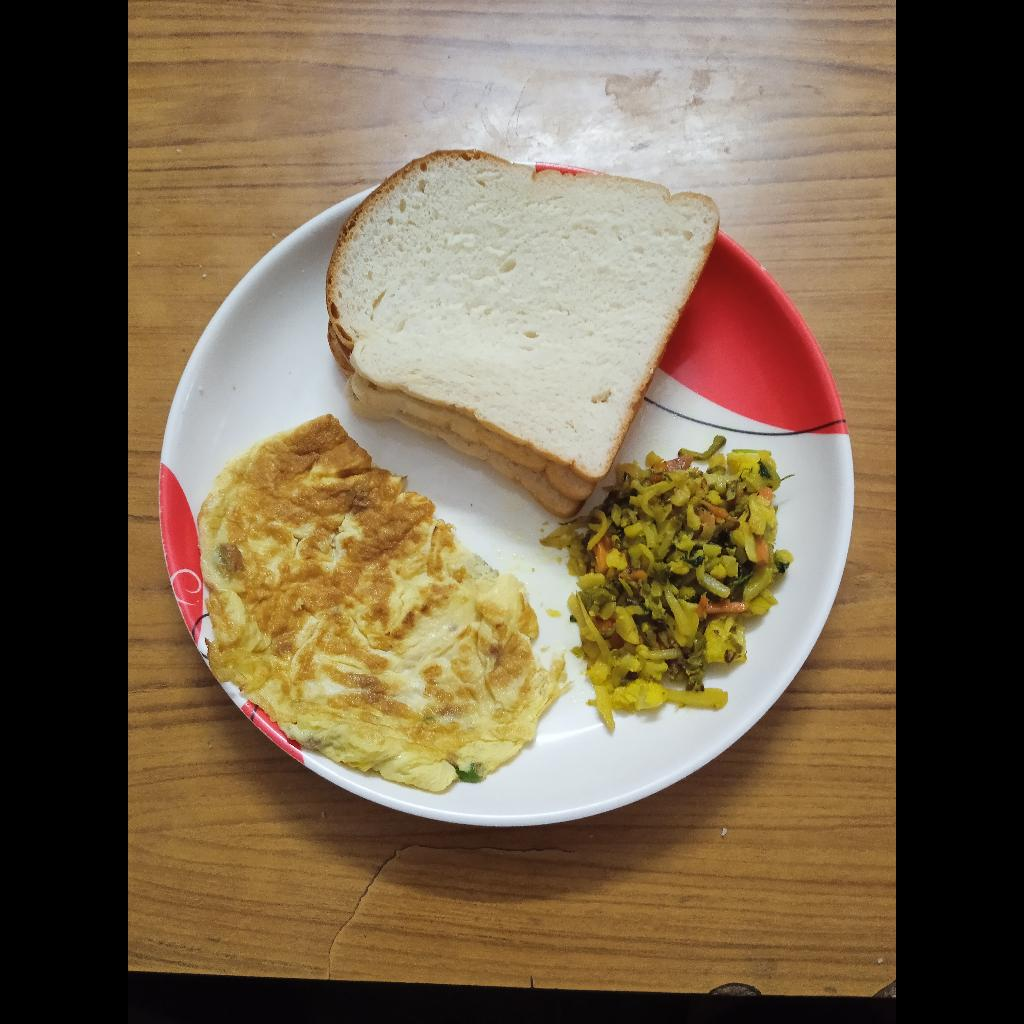bread: (328, 150, 714, 521)
egg-poached: (199, 418, 551, 793)
vegetable: (578, 441, 781, 721)
